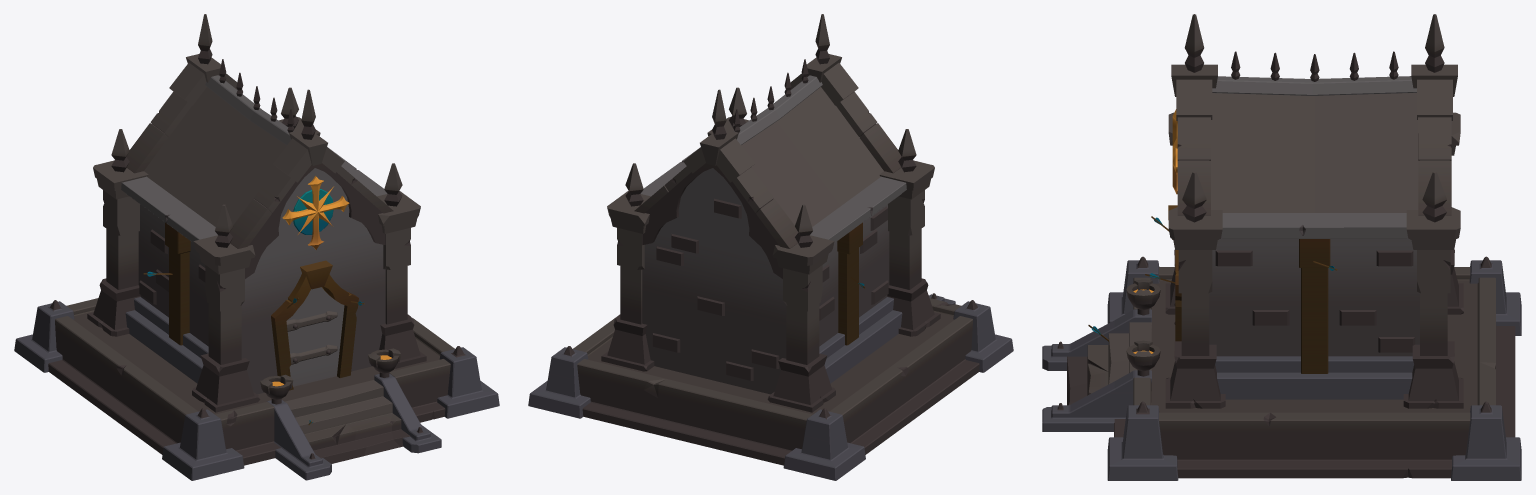
File: Crypt.fbx
3 renders of one model, left to right at view 1: azimuth 30°, elevation 25°; view 2: azimuth 150°, elevation 25°; view 3: azimuth 270°, elevation 25°, orthographic. The views are drawn at different scales.
Visible parts, largest first — view 1: Cube.002; view 2: Cube.002; view 3: Cube.002.
Part boxes in pixels (x1=…): Cube.002: x1=14, y1=14, x2=499, y2=480; Cube.002: x1=528, y1=14, x2=1013, y2=480; Cube.002: x1=1042, y1=14, x2=1521, y2=480.
Bounding box in the file's own units: 843 × 852 × 978.
